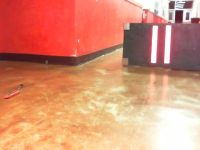switch: (164, 25, 172, 64), (151, 25, 158, 63)
